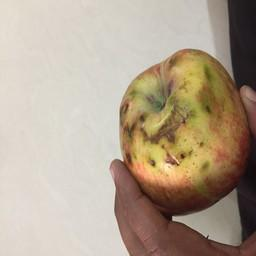Bad_apple: (116, 44, 248, 218)
